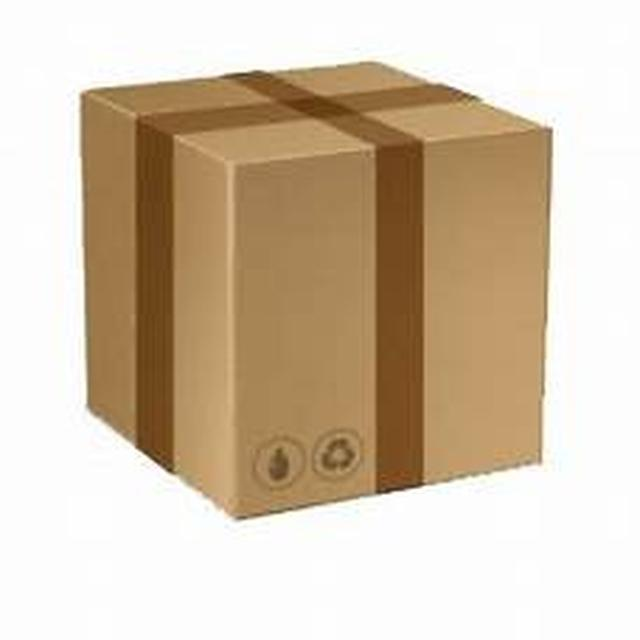box: (59, 39, 555, 557)
